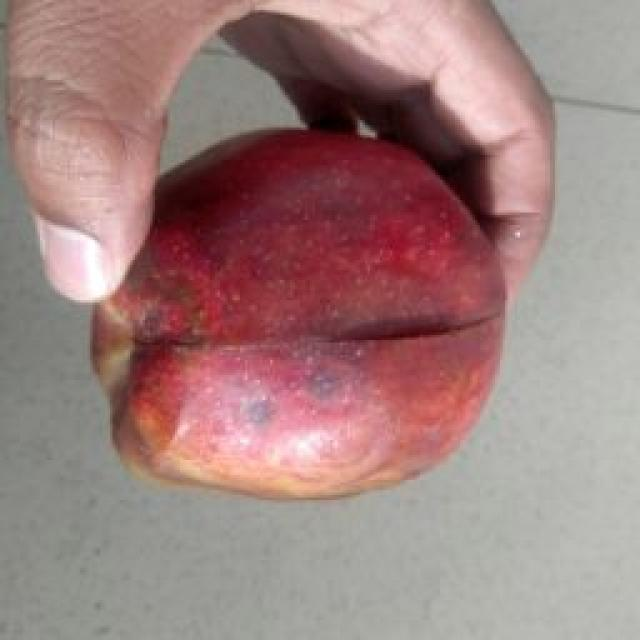Bad_Apple: (92, 130, 505, 498)
